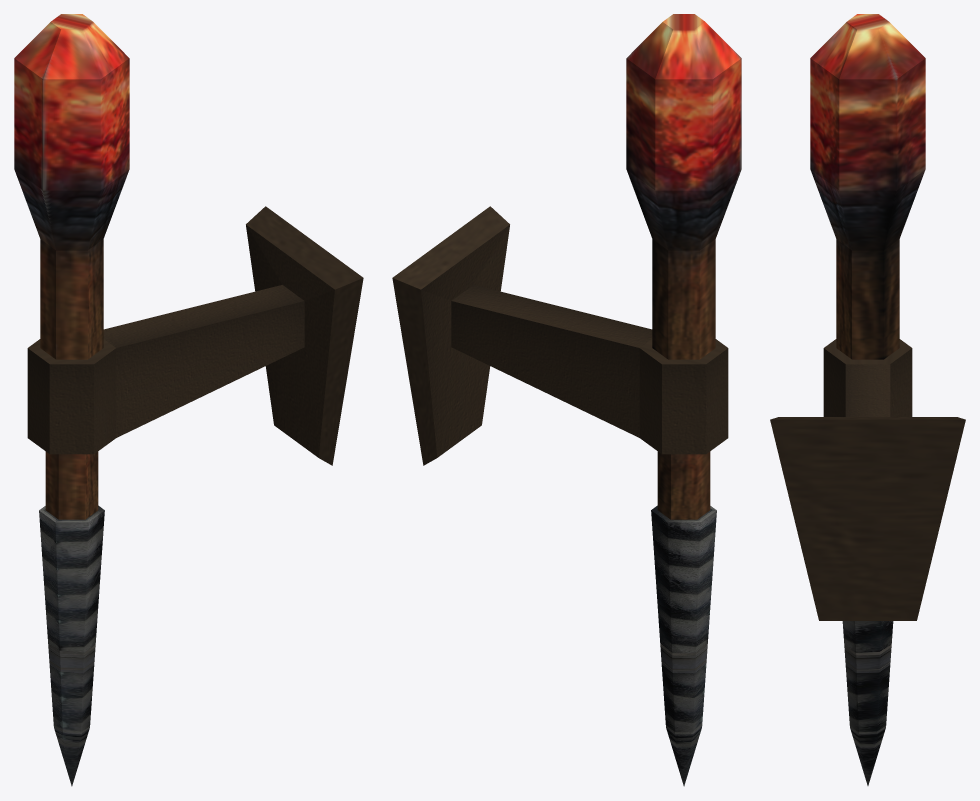
File: torch.fbx
3 views of the same model, side by side, from view 1: azimuth 30°, elevation 25°; view 2: azimuth 150°, elevation 25°; view 3: azimuth 270°, elevation 25° (orthographic).
Visible parts, largest first — view 1: Torch; view 2: Torch; view 3: Torch.
Boxes of the visible parts, box(x1,y1,x2,y2) form: Torch: box(14, 14, 363, 786); Torch: box(392, 14, 741, 786); Torch: box(770, 14, 965, 785).
Bounding box in the file's own units: 2.1 × 5.38 × 1.25.
